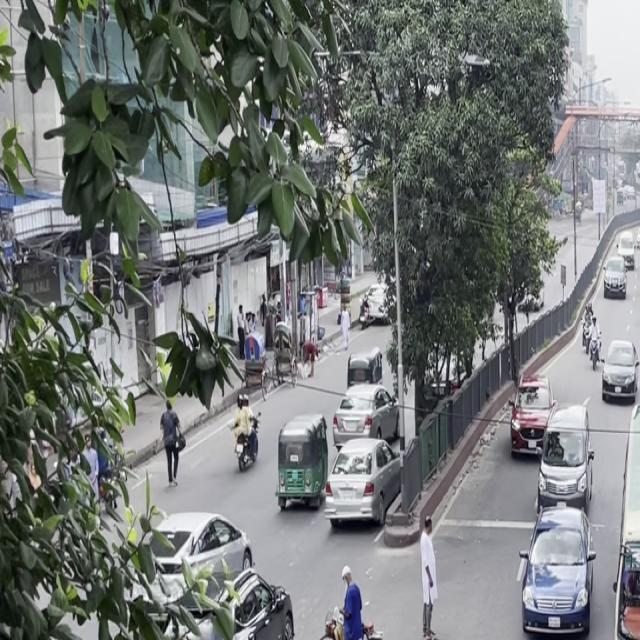bicycle: (312, 576, 399, 640)
car: (143, 547, 301, 640), (512, 497, 599, 640), (321, 428, 404, 538), (533, 398, 594, 514), (505, 369, 559, 460), (598, 330, 640, 409), (600, 258, 627, 301)
motorbike: (579, 302, 602, 368)
rickshaw: (270, 409, 330, 524)
